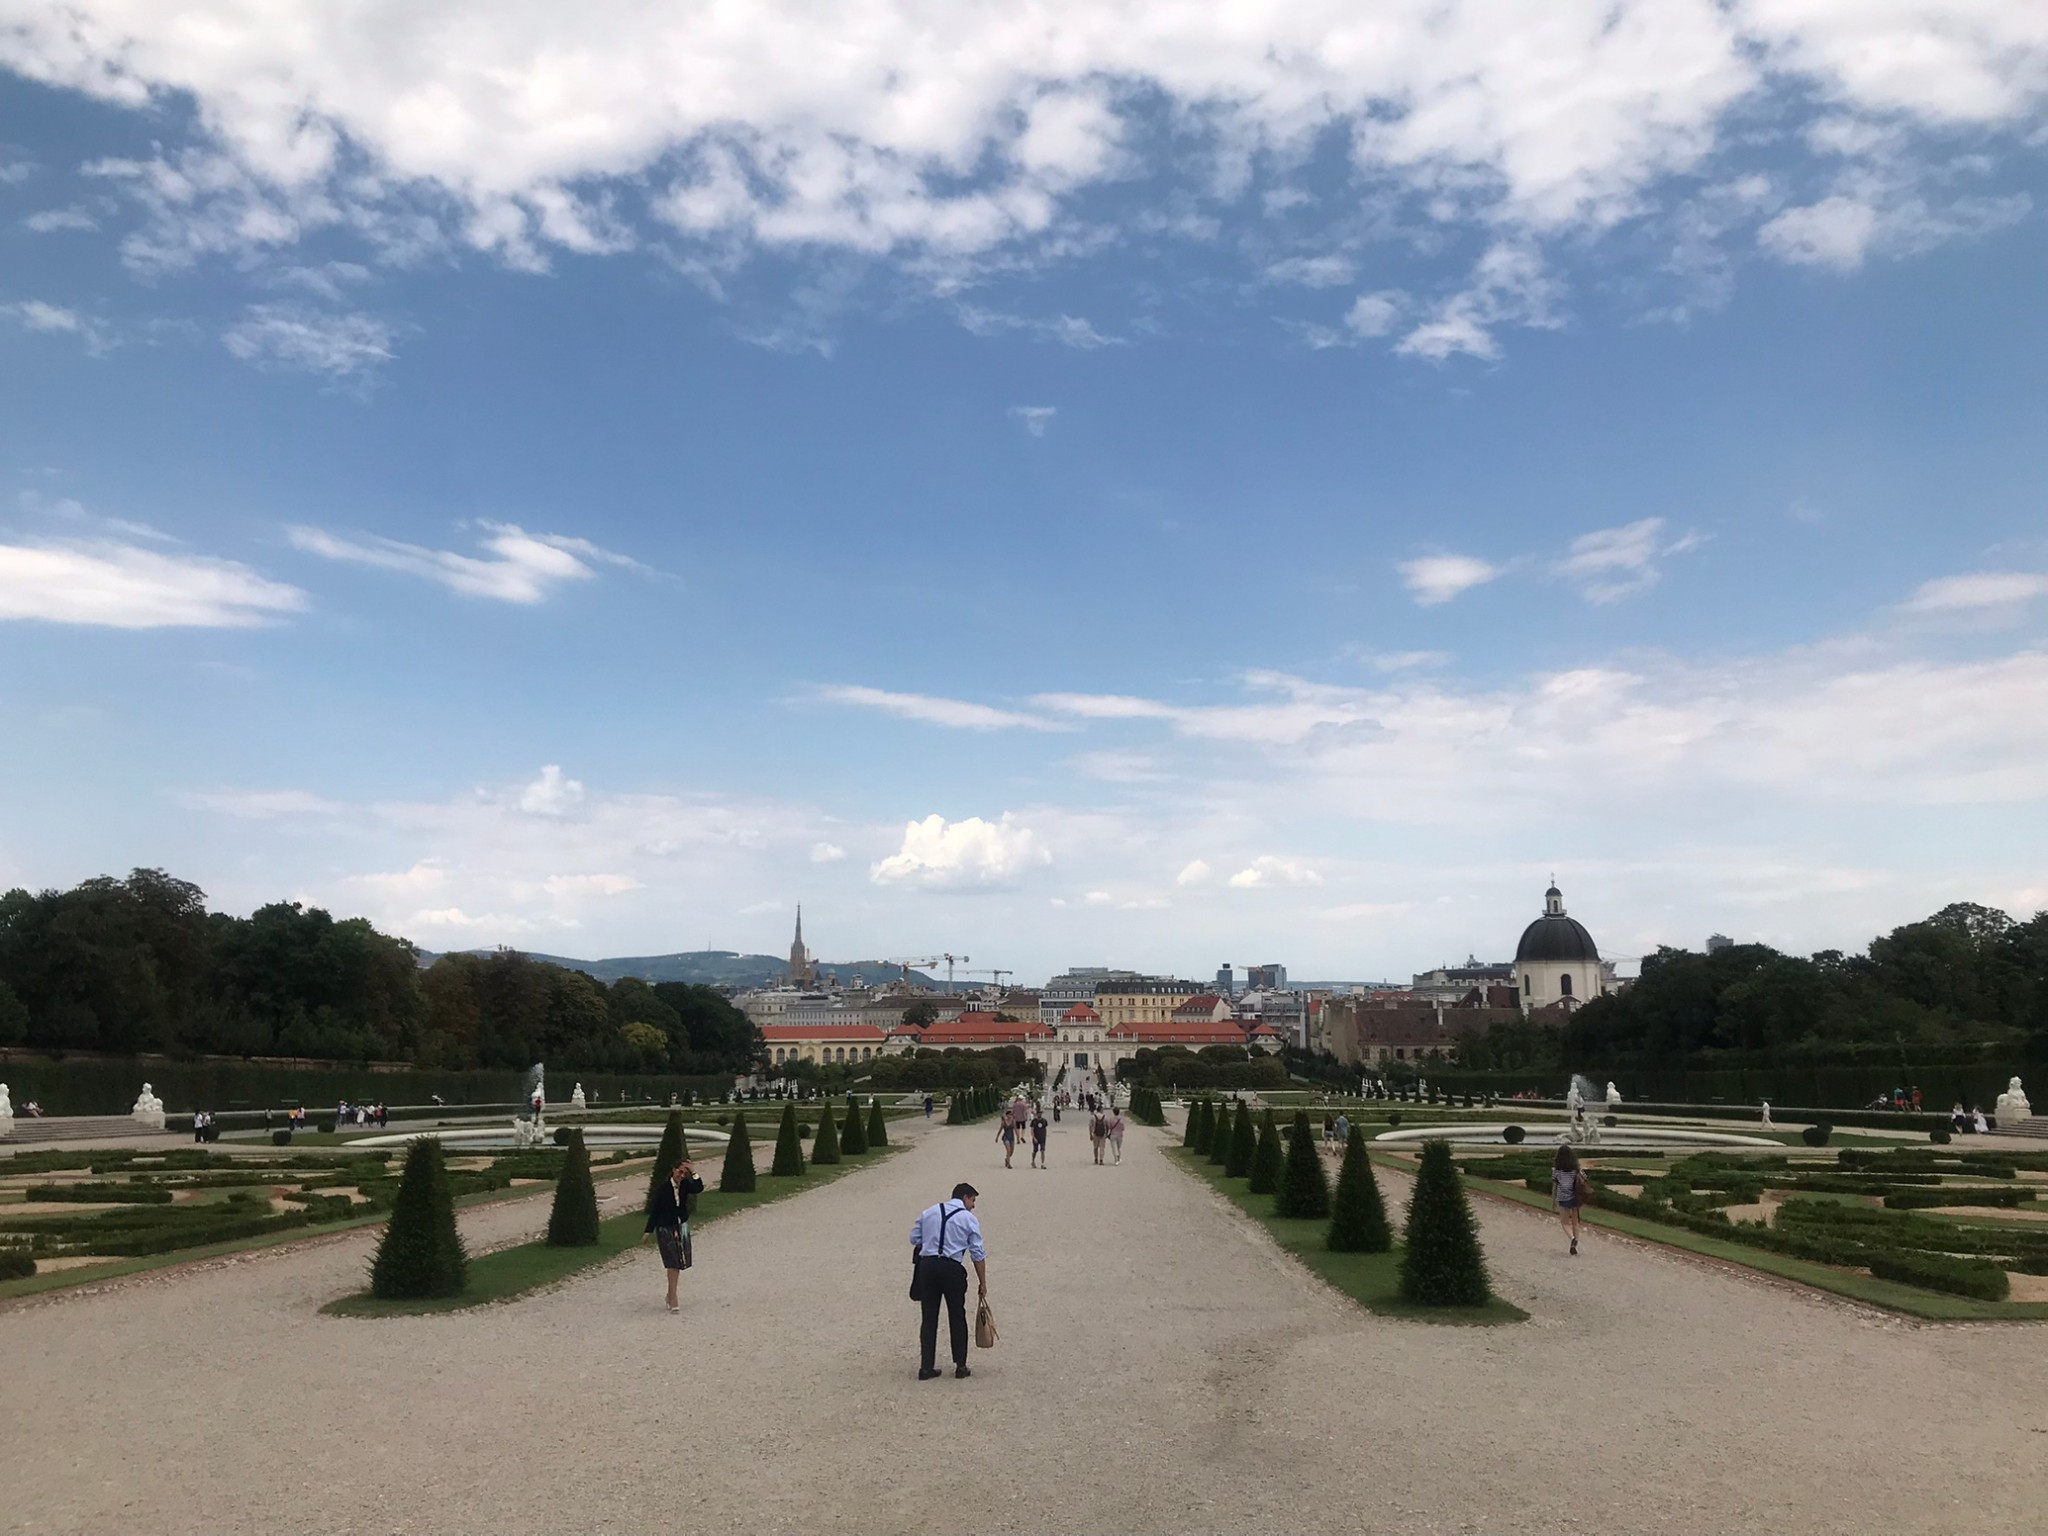people: (910, 1187, 990, 1381), (646, 1152, 699, 1319), (1552, 1140, 1590, 1266), (990, 1108, 1025, 1172), (1025, 1102, 1052, 1175), (1087, 1108, 1113, 1163), (1113, 1099, 1131, 1169)
